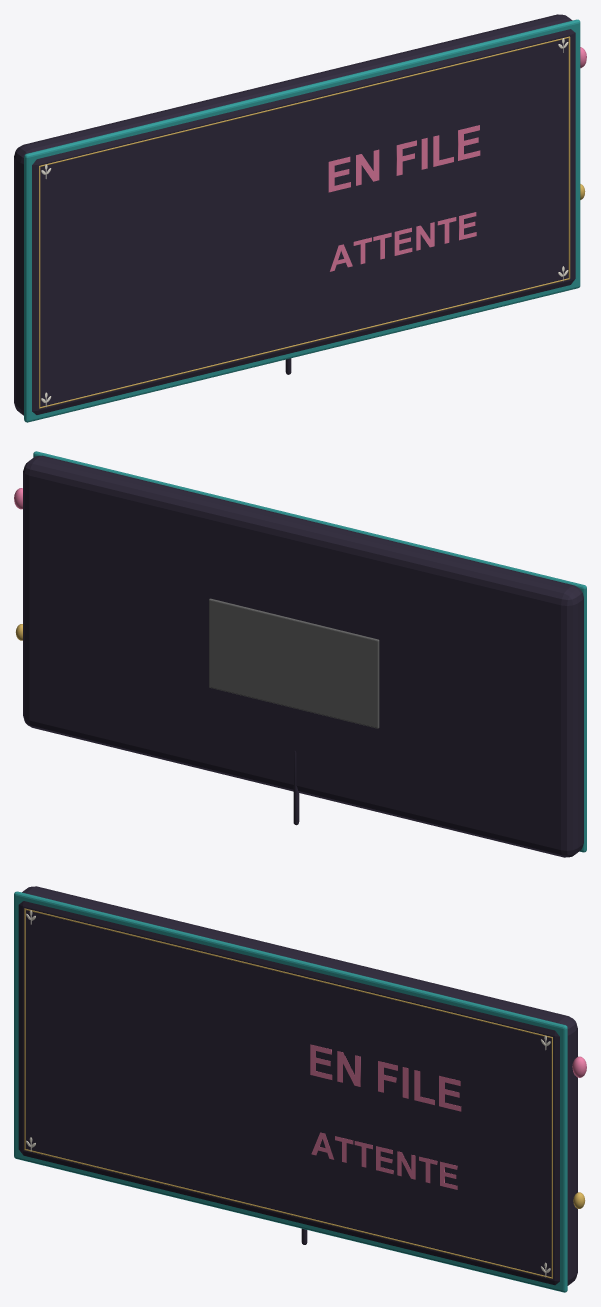
The model's file is botanical_queue_sign.glb.
3 renders of one model, top to bottom at view 1: azimuth 30°, elevation 25°; view 2: azimuth 150°, elevation 25°; view 3: azimuth 330°, elevation 25°, orthographic.
Visible parts, largest first — view 1: Solid_rounded_case, Teal_horizontal_frame.001, Teal_horizontal_frame, Fixed_queue_title, Teal_vertical_frame, Fixed_queue_subtitle, Teal_vertical_frame.001, Gold_frame_bead.001, Gold_frame_bead.003, Gold_frame_bead.002; view 2: Solid_rounded_case, Rear_wall_bracket, Teal_horizontal_frame.001, Teal_vertical_frame; view 3: Solid_rounded_case, Teal_horizontal_frame.001, Teal_horizontal_frame, Fixed_queue_title, Teal_vertical_frame.001, Fixed_queue_subtitle, Teal_vertical_frame, Gold_frame_bead.001, Gold_frame_bead.003.
Boxes of the visible parts, x1,y1,x2,y2 form: Solid_rounded_case: (14,14,575,415); Teal_horizontal_frame.001: (24,19,580,163); Teal_horizontal_frame: (24,280,580,422); Fixed_queue_title: (328,125,480,192); Teal_vertical_frame: (24,162,33,415); Fixed_queue_subtitle: (330,212,476,271); Teal_vertical_frame.001: (573,29,580,281); Gold_frame_bead.001: (40,278,569,408); Gold_frame_bead.003: (39,36,569,166); Gold_frame_bead.002: (568,36,570,278); Solid_rounded_case: (23,455,583,857); Rear_wall_bracket: (209,598,379,728); Teal_horizontal_frame.001: (33,451,586,594); Teal_vertical_frame: (583,594,586,845); Solid_rounded_case: (18,886,577,1285); Teal_horizontal_frame.001: (14,891,567,1034); Teal_horizontal_frame: (14,1151,567,1292); Fixed_queue_title: (310,1044,461,1111); Teal_vertical_frame.001: (557,1033,567,1285); Fixed_queue_subtitle: (311,1132,457,1189); Teal_vertical_frame: (14,900,20,1152); Gold_frame_bead.001: (24,1149,552,1278); Gold_frame_bead.003: (24,908,552,1038).
Size of the model in its own units: 1.33 by 0.666 by 0.0822.
